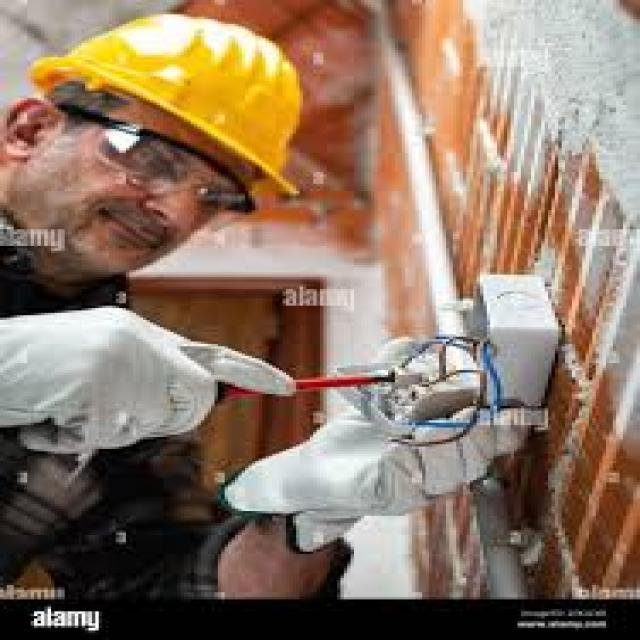screwdriver: (164, 354, 408, 428)
